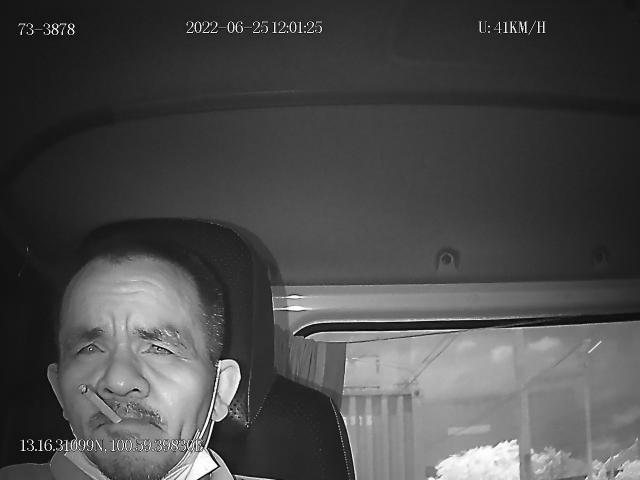SafeDriving: (136, 327, 185, 364), (69, 328, 112, 366)
Smoking: (76, 384, 126, 424)
